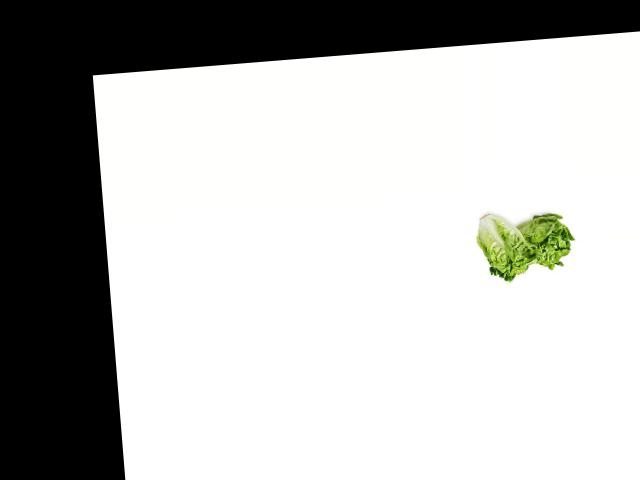lettuce: (510, 203, 576, 273)
